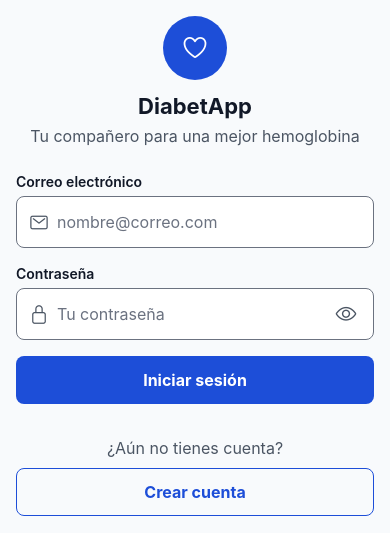
Test case: LoginScreen › el botón de la contraseña anuncia su acción y la muestra u oculta
The width and height of the screenshot is (390, 533).
Click the button named "Mostrar contraseña" at (346, 314), box [331, 298, 361, 330]
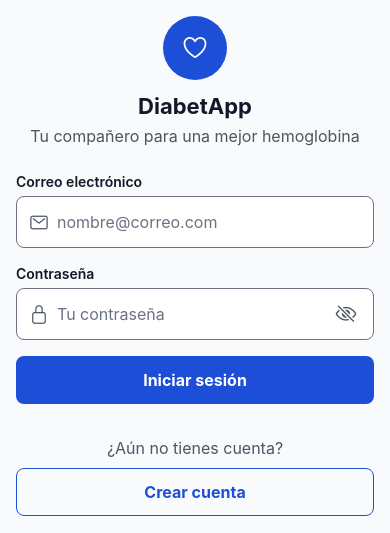
Expected: the button named "Ocultar contraseña" is shown, [331, 298, 361, 330]
